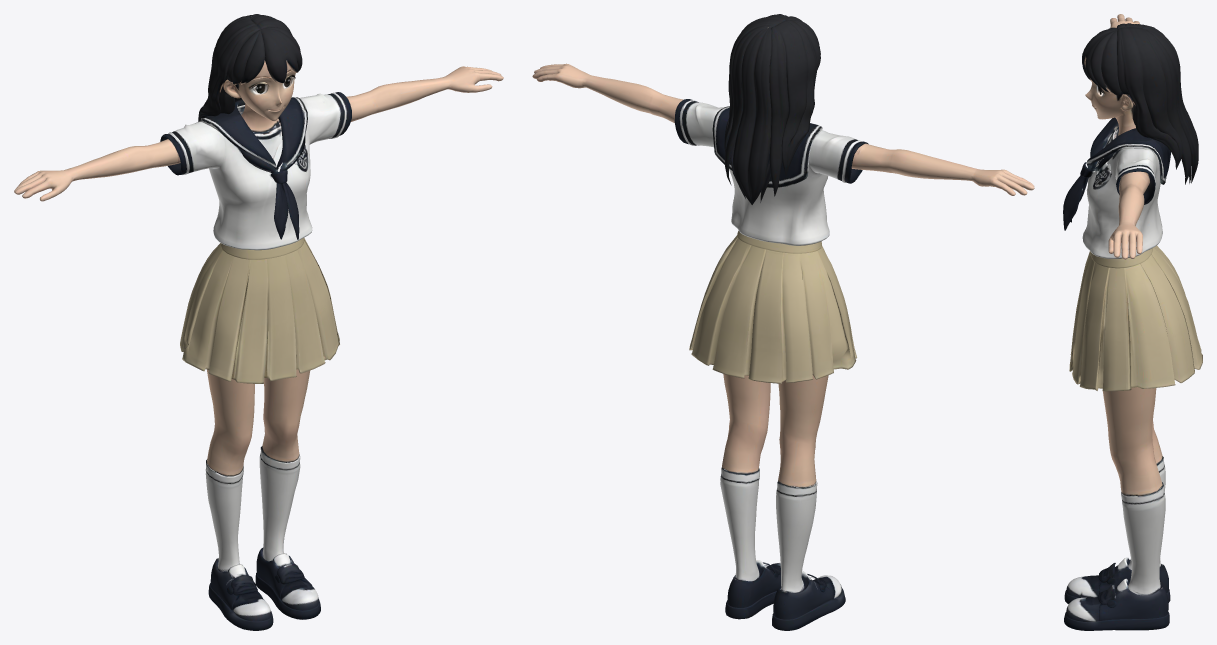
File: toonstudio_sailor.glb
3 renders of one model, left to right at view 1: azimuth 30°, elevation 25°; view 2: azimuth 150°, elevation 25°; view 3: azimuth 270°, elevation 25°, orthographic.
Parts seen in each view (by area): view 1: c25683ca_2d7e_4193_a362_e7b64cd94ab8; view 2: c25683ca_2d7e_4193_a362_e7b64cd94ab8; view 3: c25683ca_2d7e_4193_a362_e7b64cd94ab8.
Part boxes in pixels (left/top/right/bottom): c25683ca_2d7e_4193_a362_e7b64cd94ab8: left=14, top=14, right=503, bottom=630; c25683ca_2d7e_4193_a362_e7b64cd94ab8: left=532, top=14, right=1034, bottom=630; c25683ca_2d7e_4193_a362_e7b64cd94ab8: left=1063, top=14, right=1202, bottom=630.
Bounding box in the file's own units: 1.5 × 1.7 × 0.3679.
Materials: 1 (1 with a texture image).
